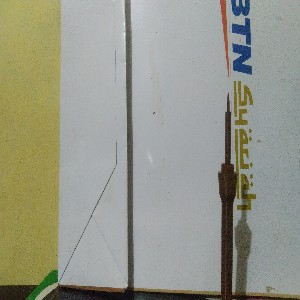solder: (217, 90, 238, 300)
